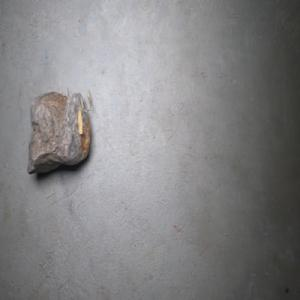Rock: (27, 87, 91, 174)
